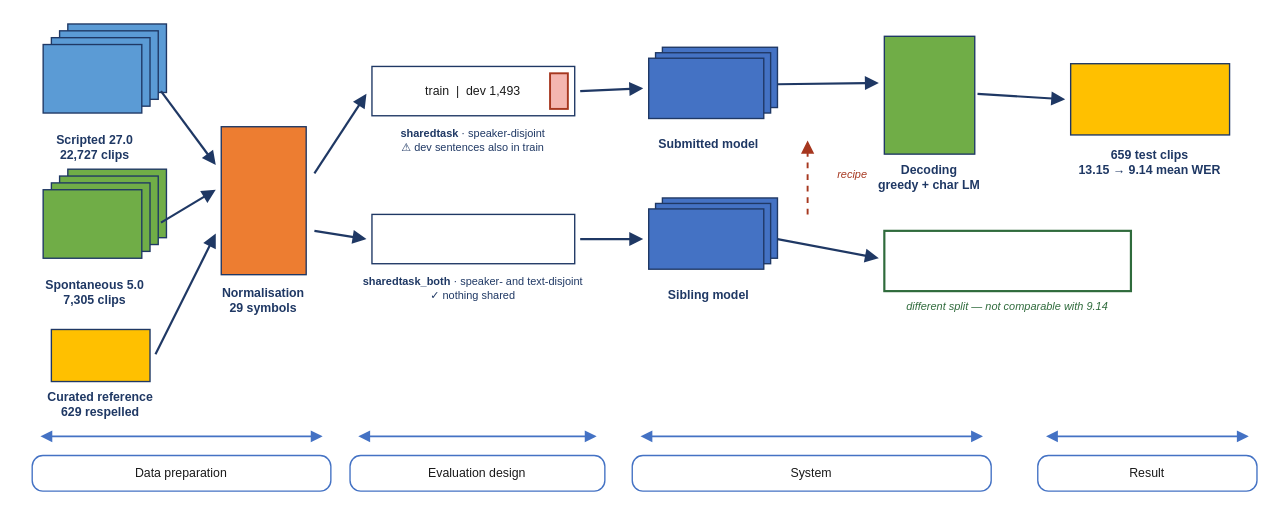
This 1284x515 diagram has some shape labels left out. The centre of each missing label's shape, as x and y in pixels:
held-out, measured once 7.08 mean WER: (1007,260)
qxp.tsv: (1149,98)
train | dev 339 | held-out: (473,238)
